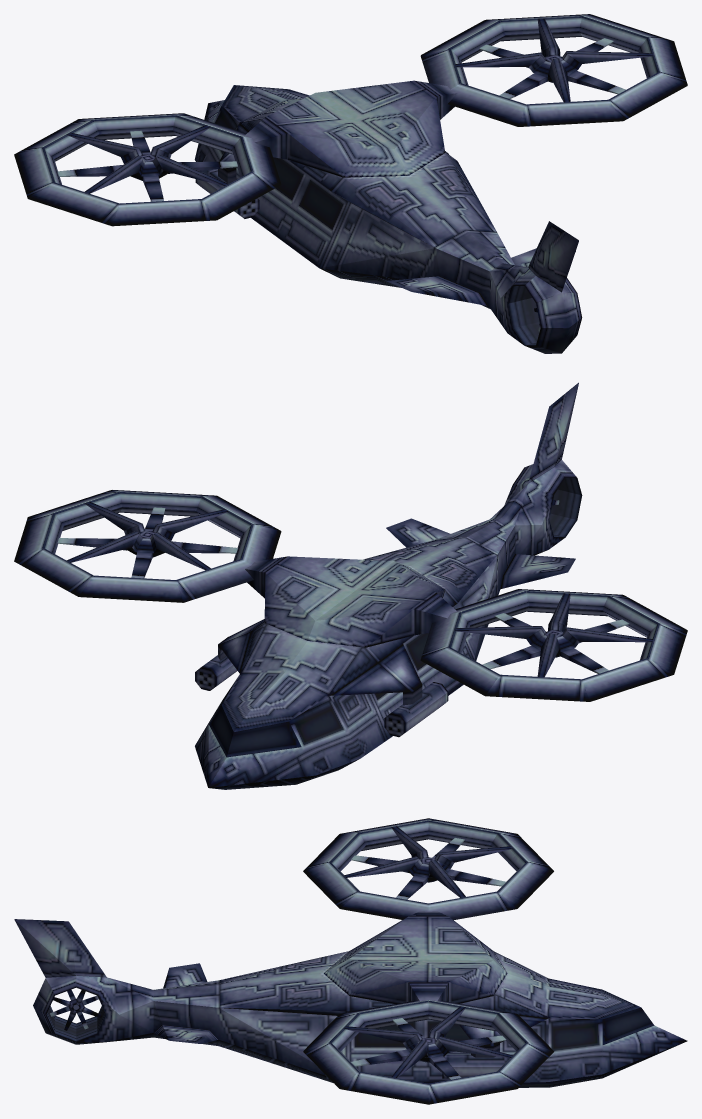
Rendered from x_90_talon.obj.
3 renders of one model, top to bottom at view 1: azimuth 30°, elevation 25°; view 2: azimuth 150°, elevation 25°; view 3: azimuth 270°, elevation 25°, orthographic. The views are drawn at different scales.
Parts seen in each view (by area): view 1: main_hull, left_rotor_base, right_rotor_base, rotors_base, left_door, left_door_bottom, left_rotor, right_rotor, left_rocket_pod; view 2: main_hull, left_rotor_base, right_rotor_base, rotors_base, wings, right_rotor, left_rotor, left_rocket_pod, left_door_bottom, right_rocket_pod, left_door; view 3: main_hull, right_rotor_base, left_rotor_base, rotors_base, right_door, right_door_bottom, right_rotor, left_rotor, right_rocket_pod, wings, tail_rotor_holder.
Part boxes in pixels (x1,y1,x2,y2): main_hull: (194, 85, 582, 353); left_rotor_base: (14, 113, 287, 226); right_rotor_base: (414, 14, 687, 126); rotors_base: (266, 80, 445, 177); left_door: (270, 157, 348, 236); left_door_bottom: (251, 191, 332, 267); left_rotor: (57, 130, 237, 201); right_rotor: (479, 38, 625, 98); left_rocket_pod: (195, 169, 259, 218); main_hull: (195, 382, 582, 789); left_rotor_base: (414, 589, 687, 701); right_rotor_base: (14, 490, 287, 602); rotors_base: (264, 556, 444, 647); wings: (218, 619, 422, 695); right_rotor: (57, 507, 237, 578); left_rotor: (482, 613, 629, 673); left_rocket_pod: (384, 682, 448, 737); left_door_bottom: (377, 667, 463, 737); right_rocket_pod: (195, 655, 237, 690); left_door: (371, 633, 431, 706); main_hull: (14, 919, 687, 1087); right_rotor_base: (303, 982, 554, 1104); left_rotor_base: (303, 818, 553, 919); rotors_base: (324, 916, 507, 1003); right_door: (349, 1019, 469, 1052); right_door_bottom: (349, 1052, 470, 1083); right_rotor: (351, 1018, 506, 1079); left_rotor: (351, 838, 505, 899); right_rocket_pod: (442, 1054, 512, 1078); wings: (459, 1014, 547, 1046); tail_rotor_holder: (53, 990, 102, 1030).
Bounding box in the file's own units: 19.13 × 4.96 × 19.03.
